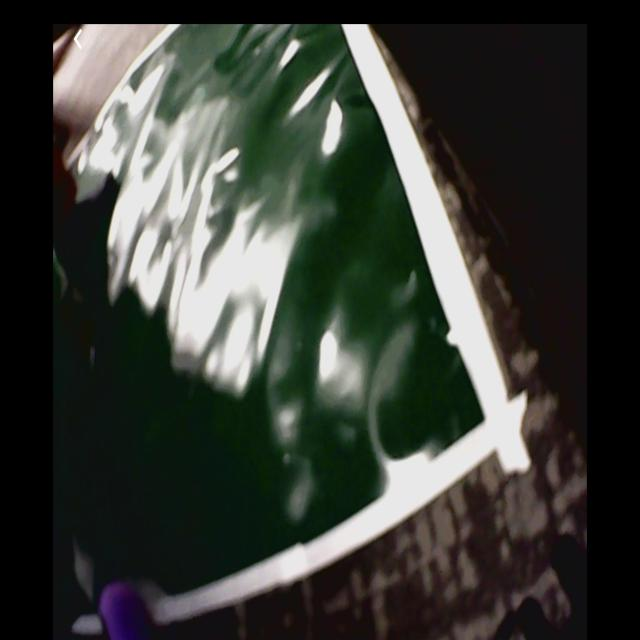ball: (90, 581, 155, 639)
